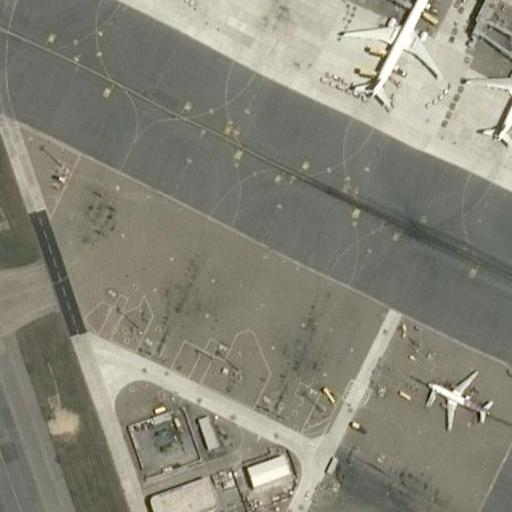Aircraft: (334, 0, 446, 114), (337, 0, 446, 108), (419, 366, 498, 434), (466, 33, 512, 149), (468, 38, 512, 152), (420, 366, 495, 430)
